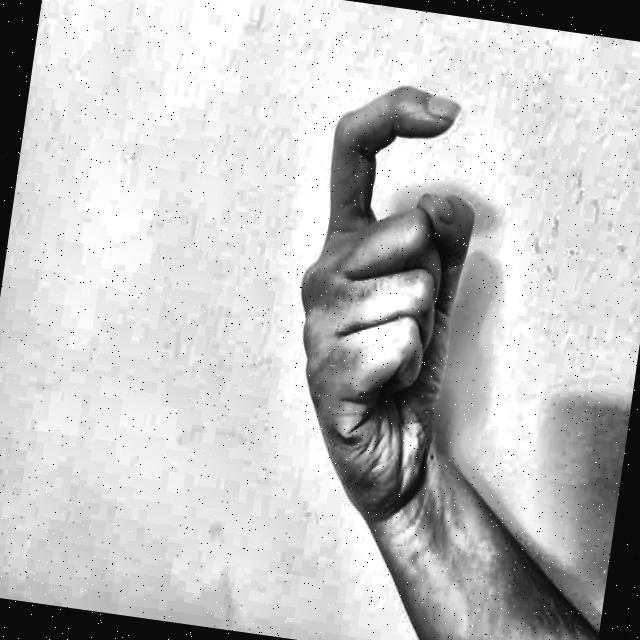E: (245, 32, 568, 534)
